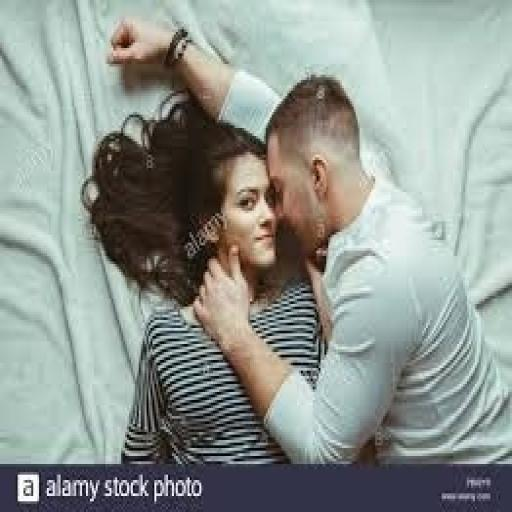hugging: (80, 14, 510, 470)
